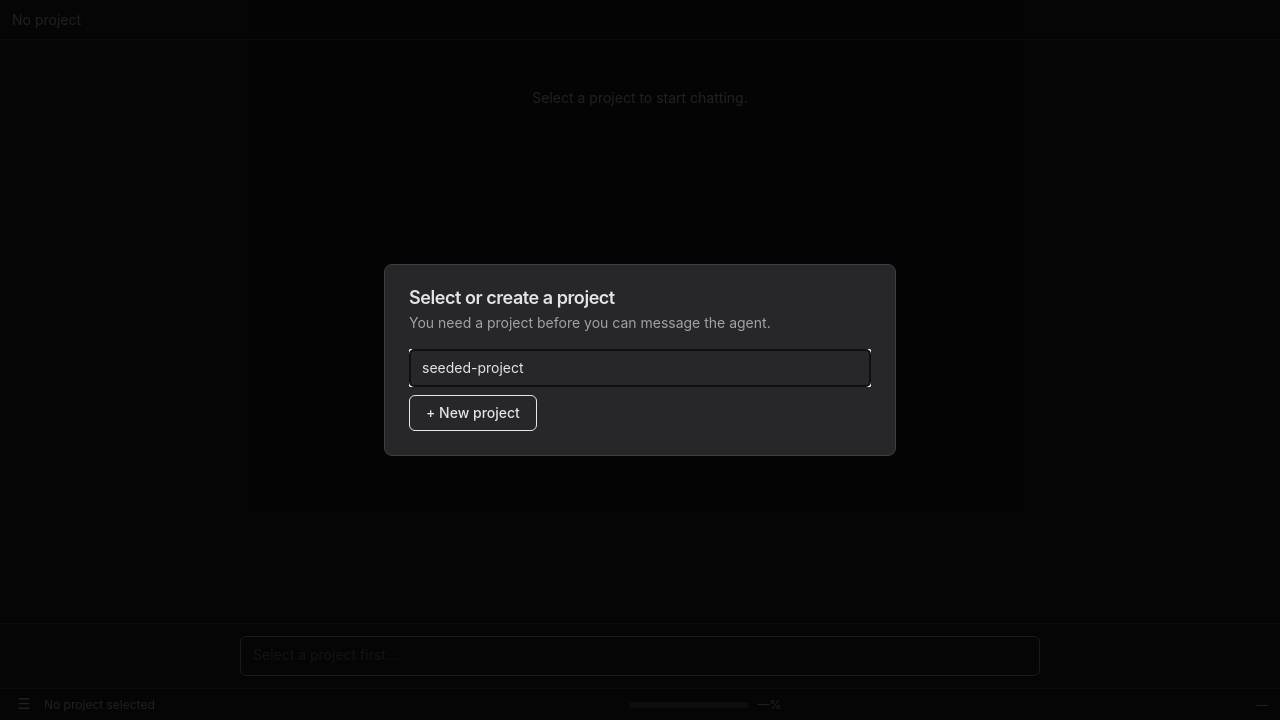
Test case: App layout › first-launch dialog closes after selecting a project from the list
Expected: the dialog with test id "first-launch-dialog" is shown, [384,264,896,456]
Click the button "seeded-project". click: coordinates (473, 368)
box: [409,349,871,387]
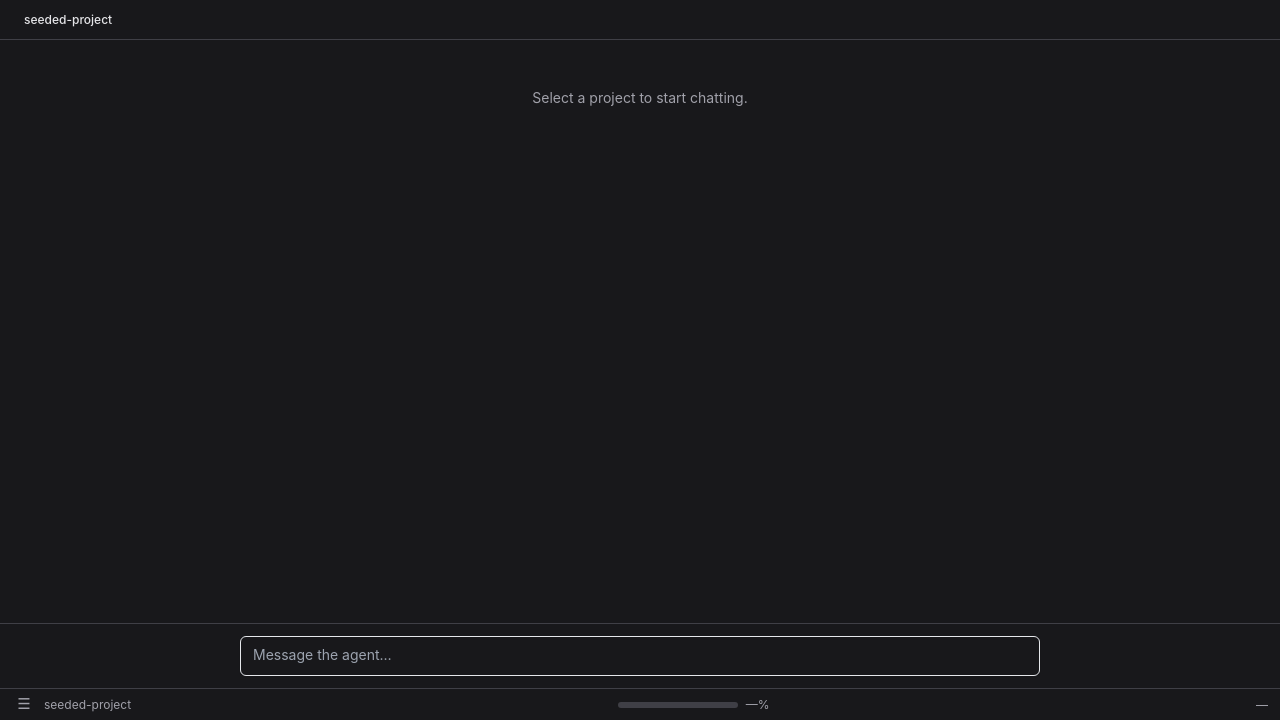
Result: the dialog with test id "first-launch-dialog" is gone
